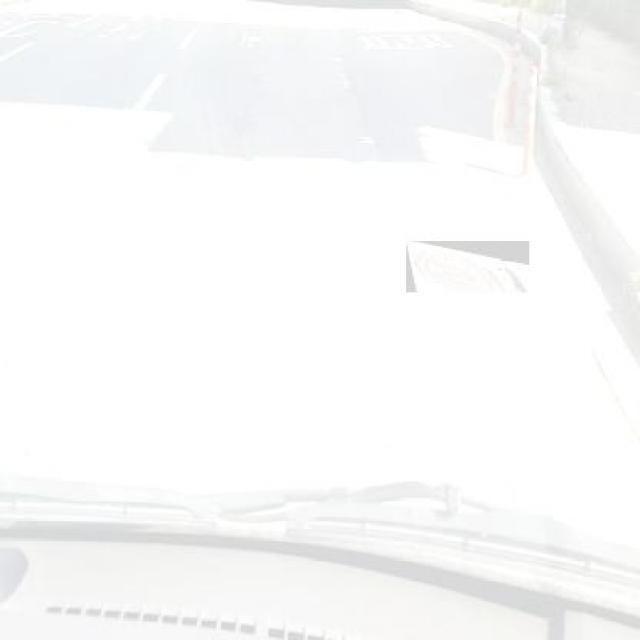Manhole: (406, 240, 529, 292)
